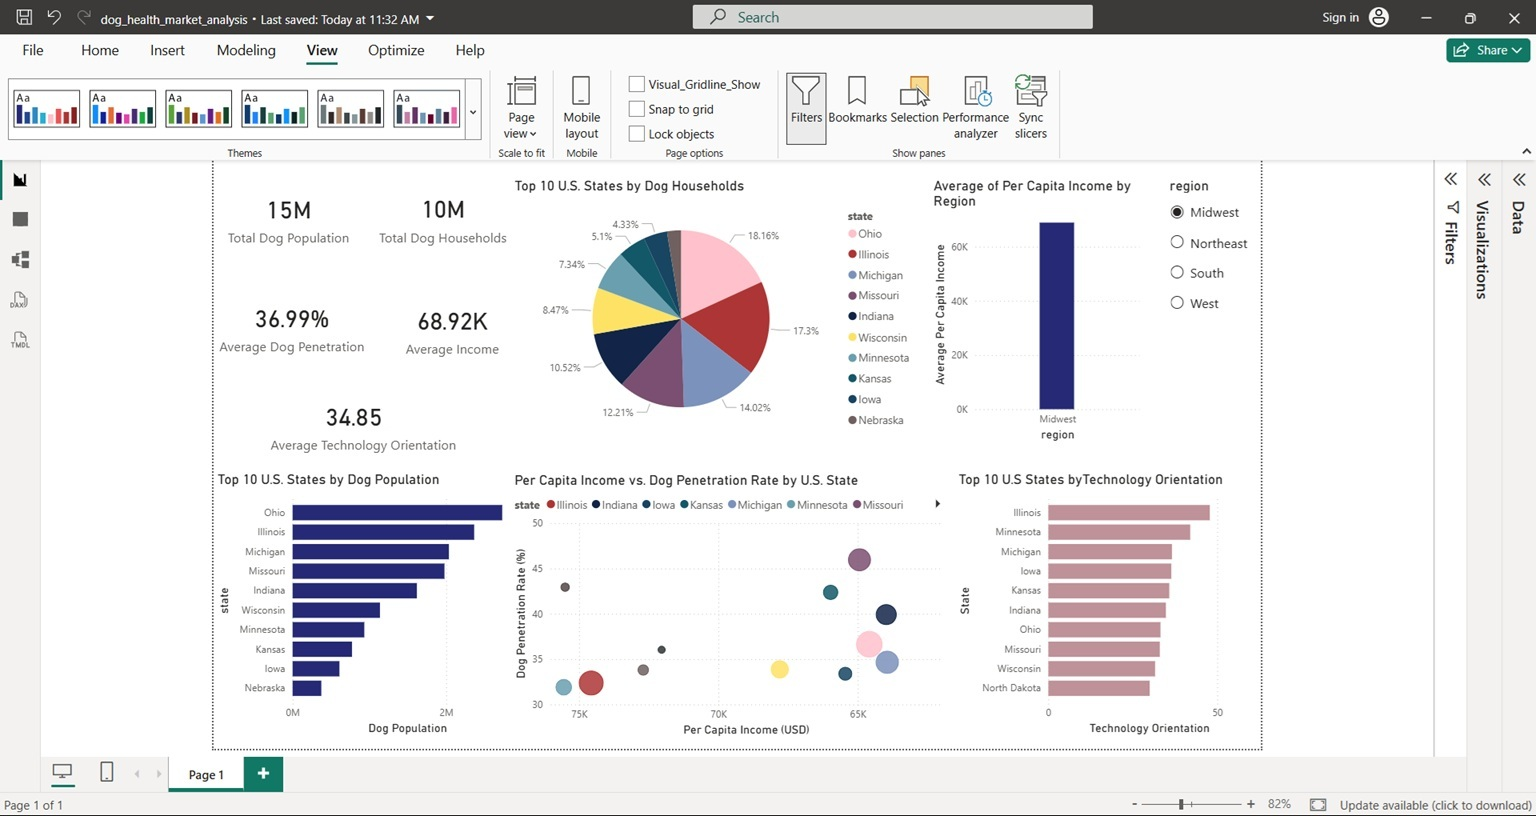

The page's visual inventory and layout, read from the dashboard file:
{"tool":"powerbi","page":{"name":"Page 1","canvas":[1280,720],"ordinal":0},"visuals":[{"type":"card","fields":{"Values":["market market_kpis.Total Dog Households"]},"box":[183.4,0,194.4,139.4],"z":0},{"type":"actionButton","box":[0,0,100,40],"z":1000},{"type":"card","fields":{"Values":["market market_kpis.Total Dog Population"]},"box":[0,0,183.8,140],"z":2000},{"type":"card","fields":{"Values":["market market_kpis.Average Dog Penetration"]},"box":[0,128.4,192,149.2],"z":3000},{"type":"card","fields":{"Values":["market market_kpis.Average Income"]},"box":[192,130.8,200.5,150.4],"z":4000},{"type":"card","fields":{"Values":["market market_kpis.Average Technology Orientation"]},"box":[52.6,266.6,261.7,113.7],"z":5000},{"type":"clusteredBarChart","title":"Top 10 U.S. States by Dog Population","fields":{"Category":["market market_kpis.state"],"Y":["Sum(market market_kpis.dog_population)"]},"box":[0,380.1,392.5,328],"z":6000},{"type":"scatterChart","title":"Per Capita Income vs. Dog Penetration Rate by U.S. State","fields":{"X":["Sum(market market_kpis.per_capita_income)"],"Y":["Sum(market market_kpis.dog_penetration_rate)"],"Category":["market market_kpis.state"],"Size":["Sum(market market_kpis.dog_population)"],"Series":["market market_kpis.state"]},"box":[363.6,381.5,542,328],"z":7000},{"type":"listSlicer","fields":{"Values":["market market_kpis.region"]},"box":[1163.6,20.6,116.6,328],"z":8000},{"type":"clusteredBarChart","title":"Top 10 U.S States byTechnology Orientation","fields":{"Y":["Sum(market market_kpis.technology_orientation)"],"Category":["market market_kpis.state"]},"box":[905.7,380.1,374.6,328],"z":9000},{"type":"pieChart","title":"Top 10 U.S. States by Dog Households","fields":{"Y":["Sum(market market_kpis.dog_households)"],"Series":["market market_kpis.state"],"Category":["market market_kpis.state"]},"box":[363.6,20.6,502.2,328],"z":10000},{"type":"clusteredColumnChart","title":"Average of Per Capita Income by Region","fields":{"Category":["market market_kpis.region"],"Y":["Avg(market market_kpis.per_capita_income)"]},"box":[875.5,20.6,262.1,328],"z":11000}]}

Visuals, with their boxes on the page's 1280x720 design canvas (x1, y1, x2, y2). These are canvas units, not pixel positions in the 1536x816 screenshot, which may show the page scaled, cropped or inside an application window:
card - market market_kpis.Total Dog Households: bbox=[183, 0, 378, 139]
actionButton: bbox=[0, 0, 100, 40]
card - market market_kpis.Total Dog Population: bbox=[0, 0, 184, 140]
card - market market_kpis.Average Dog Penetration: bbox=[0, 128, 192, 278]
card - market market_kpis.Average Income: bbox=[192, 131, 392, 281]
card - market market_kpis.Average Technology Orientation: bbox=[53, 267, 314, 380]
"Top 10 U.S. States by Dog Population" clusteredBarChart: bbox=[0, 380, 392, 708]
"Per Capita Income vs. Dog Penetration Rate by U.S. State" scatterChart: bbox=[364, 382, 906, 710]
listSlicer - market market_kpis.region: bbox=[1164, 21, 1280, 349]
"Top 10 U.S States byTechnology Orientation" clusteredBarChart: bbox=[906, 380, 1280, 708]
"Top 10 U.S. States by Dog Households" pieChart: bbox=[364, 21, 866, 349]
"Average of Per Capita Income by Region" clusteredColumnChart: bbox=[876, 21, 1138, 349]
